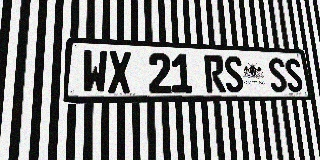1: (170, 53, 193, 93)
2: (149, 53, 171, 93)
R: (204, 55, 226, 93)
S: (223, 56, 244, 93), (268, 57, 288, 92), (284, 58, 304, 92)
W: (82, 50, 107, 94)
X: (108, 51, 132, 94)
